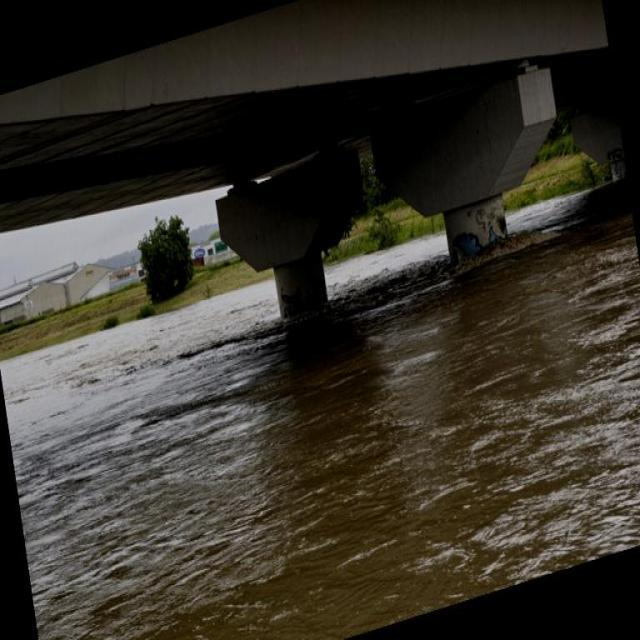flood: (0, 149, 639, 639)
